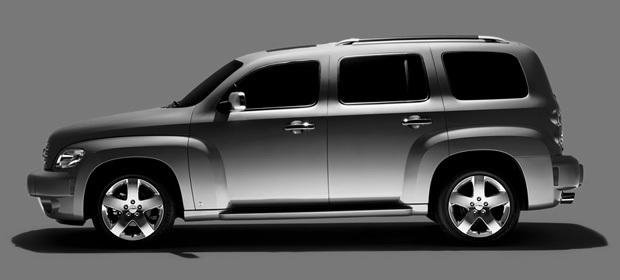car: (25, 34, 588, 254)
